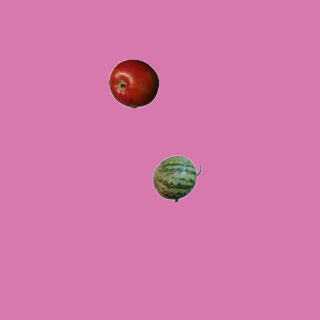Apple Braeburn: (108, 58, 158, 108)
Watermelon: (151, 153, 201, 203)
